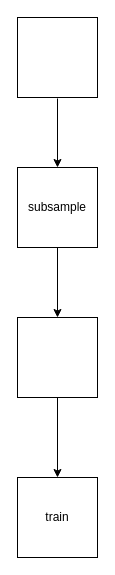
Image size: 115x575. Some labels were removed from this diagram. The shapes that lost their labels are listed below. From the top down, each one's box as (x1, y1, x2, y2) in pixels, then its label:
(16, 16, 98, 98): 加载词表
(16, 316, 98, 398): neg sample
